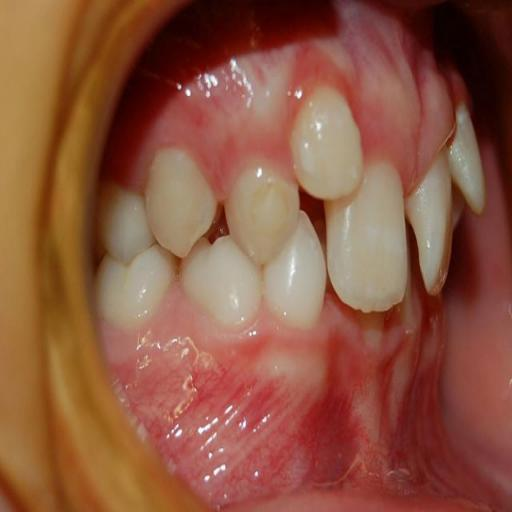spaced: (204, 190, 240, 238)
